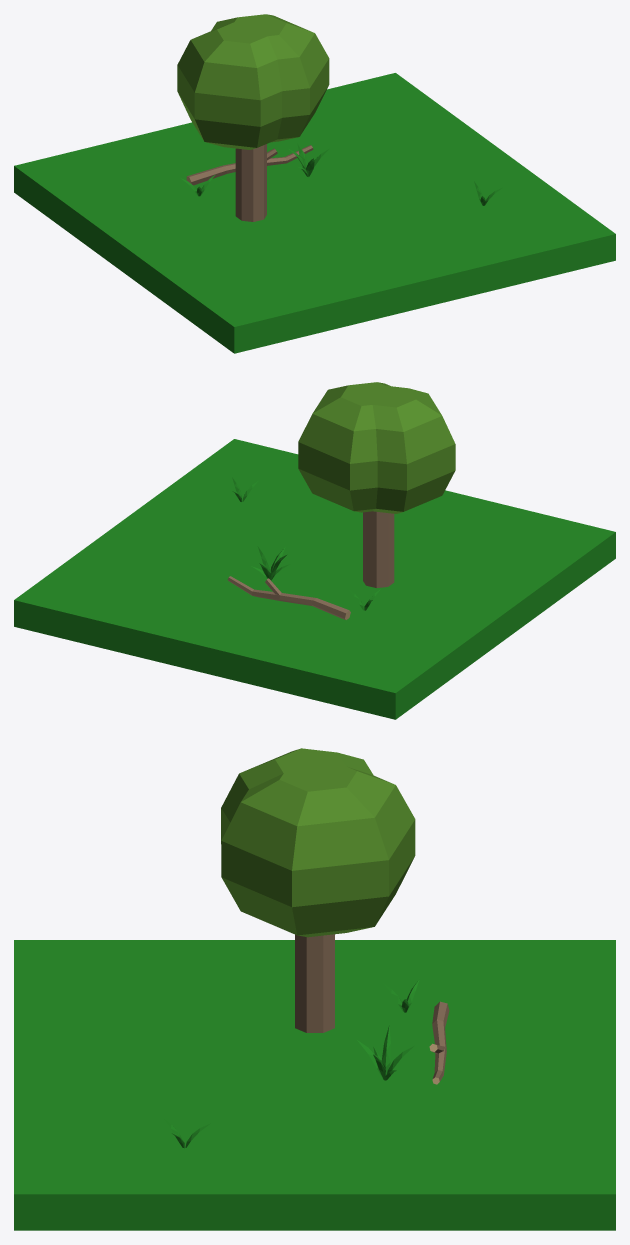
The model's file is field4.fbx.
3 views of the same model, one above another, from view 1: azimuth 30°, elevation 25°; view 2: azimuth 150°, elevation 25°; view 3: azimuth 270°, elevation 25° (orthographic). The views are drawn at different scales.
Visible parts, largest first — view 1: Prop_Bush_3_26, Grass_Flat_6, Grass_Flat_7, Grass_Flat_8, Grass_Flat_3, Grass_Flat_2, Grass_Flat_1, Grass_Flat_5, Grass_Flat_0, Grass_Flat_4, Prop_Bridge_Log_Post_Support_25, Prop_Branch_3_28; view 2: Prop_Bush_3_26, Grass_Flat_3, Grass_Flat_5, Grass_Flat_4, Grass_Flat_6, Grass_Flat_2, Grass_Flat_1, Grass_Flat_8, Grass_Flat_0, Grass_Flat_7, Prop_Bridge_Log_Post_Support_25, Prop_Branch_3_28; view 3: Prop_Bush_3_26, Grass_Flat_1, Grass_Flat_5, Grass_Flat_8, Grass_Flat_7, Grass_Flat_6, Grass_Flat_3, Grass_Flat_4, Grass_Flat_0, Grass_Flat_2, Prop_Bridge_Log_Post_Support_25, Prop_Branch_3_28 (+1 smaller).
Boxes of the visible parts, x1=… form: Prop_Bush_3_26: x1=177, y1=14, x2=329, y2=149; Grass_Flat_6: x1=161, y1=242, x2=361, y2=353; Grass_Flat_7: x1=288, y1=211, x2=488, y2=322; Grass_Flat_8: x1=416, y1=180, x2=615, y2=291; Grass_Flat_3: x1=14, y1=135, x2=214, y2=245; Grass_Flat_2: x1=87, y1=188, x2=287, y2=299; Grass_Flat_1: x1=342, y1=126, x2=541, y2=211; Grass_Flat_5: x1=304, y1=73, x2=468, y2=157; Grass_Flat_0: x1=215, y1=157, x2=414, y2=242; Grass_Flat_4: x1=141, y1=122, x2=341, y2=188; Prop_Bridge_Log_Post_Support_25: x1=235, y1=144, x2=266, y2=221; Prop_Branch_3_28: x1=186, y1=145, x2=313, y2=185; Prop_Bush_3_26: x1=298, y1=382, x2=455, y2=513; Grass_Flat_3: x1=268, y1=610, x2=468, y2=719; Grass_Flat_5: x1=14, y1=546, x2=214, y2=657; Grass_Flat_4: x1=141, y1=577, x2=332, y2=688; Grass_Flat_6: x1=416, y1=501, x2=615, y2=611; Grass_Flat_2: x1=343, y1=554, x2=542, y2=665; Grass_Flat_1: x1=88, y1=492, x2=287, y2=577; Grass_Flat_8: x1=161, y1=439, x2=322, y2=523; Grass_Flat_0: x1=215, y1=523, x2=414, y2=607; Grass_Flat_7: x1=288, y1=490, x2=487, y2=554; Prop_Bridge_Log_Post_Support_25: x1=363, y1=511, x2=394, y2=588; Prop_Branch_3_28: x1=227, y1=576, x2=350, y2=619; Prop_Bush_3_26: x1=221, y1=748, x2=415, y2=937; Grass_Flat_1: x1=214, y1=1109, x2=415, y2=1230; Grass_Flat_5: x1=415, y1=1109, x2=615, y2=1230; Grass_Flat_8: x1=14, y1=1109, x2=214, y2=1230; Grass_Flat_7: x1=14, y1=1024, x2=214, y2=1109; Grass_Flat_6: x1=14, y1=940, x2=214, y2=1024; Grass_Flat_3: x1=415, y1=940, x2=615, y2=1024; Grass_Flat_4: x1=415, y1=1024, x2=615, y2=1109; Grass_Flat_0: x1=214, y1=1024, x2=415, y2=1109; Grass_Flat_2: x1=214, y1=940, x2=415, y2=1024; Prop_Bridge_Log_Post_Support_25: x1=295, y1=934, x2=334, y2=1032; Prop_Branch_3_28: x1=429, y1=1001, x2=449, y2=1084.
Size of the model in its own units: 30 by 16 by 30.
